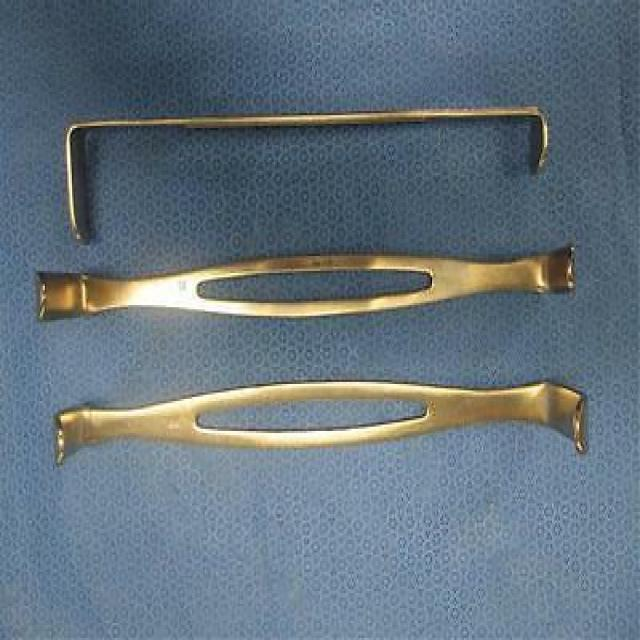Army_navy: (59, 100, 552, 246), (52, 378, 590, 470), (34, 250, 578, 322)
